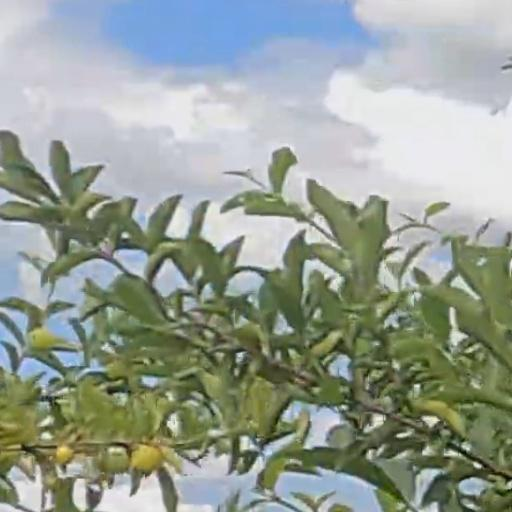acerola: (134, 446, 159, 472)
